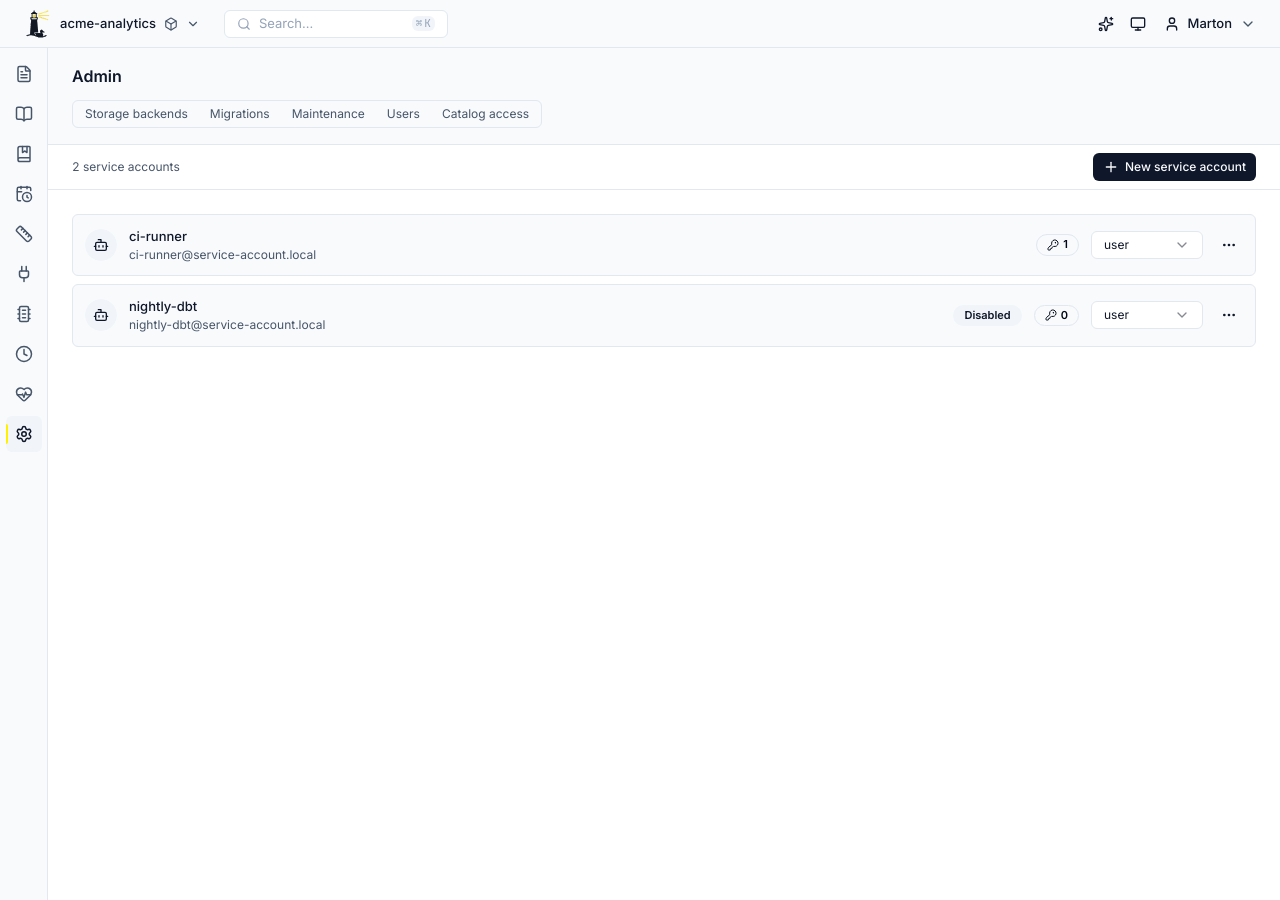
Test: ServiceAccountsPage › issues a PAT and reveals the secret exactly once
The image size is (1280, 900).
Click the button named "actions for ci-runner" at (1229, 245), box [1215,231,1243,259]
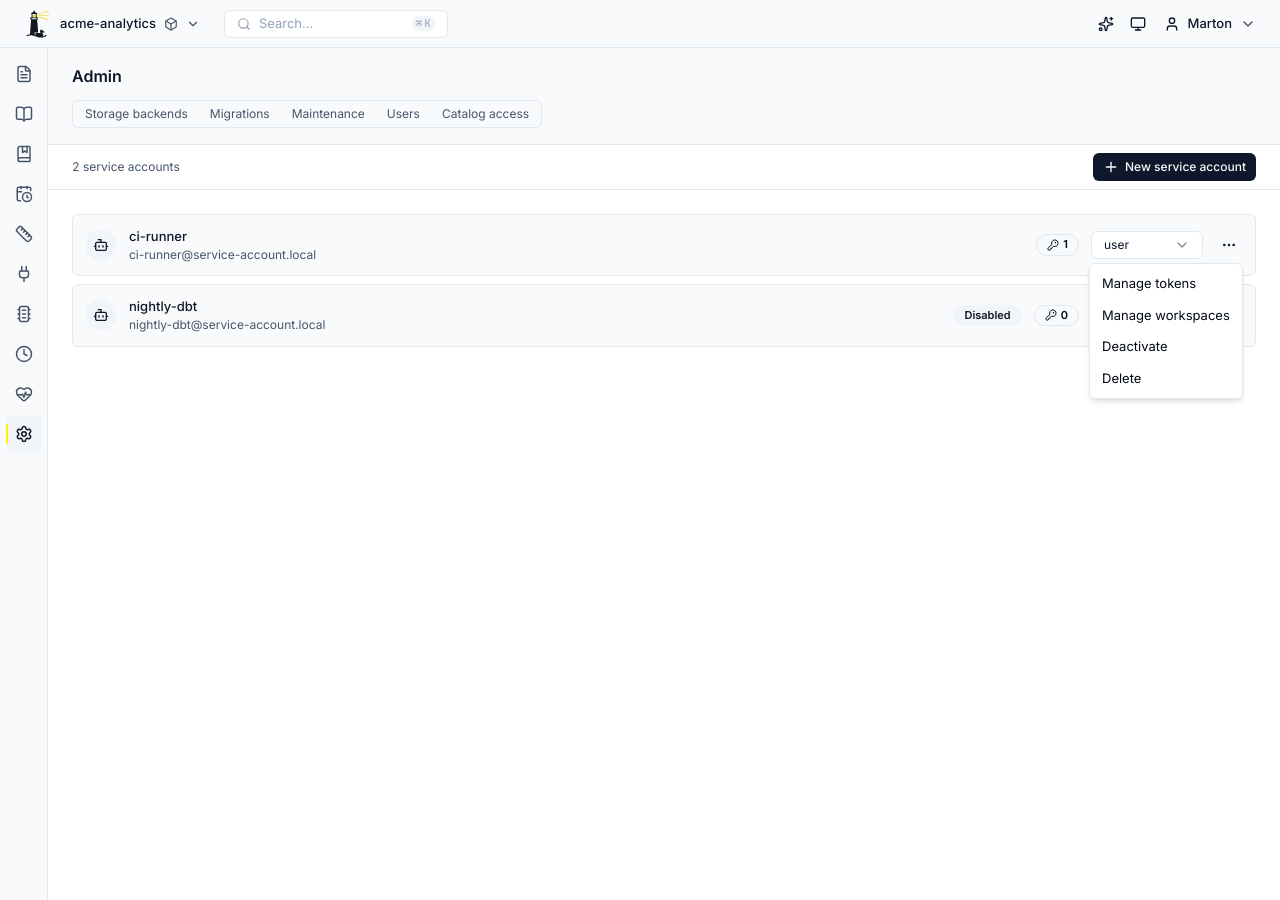
Click the menu item "Manage tokens" at (1149, 283), box [1102,275,1196,291]
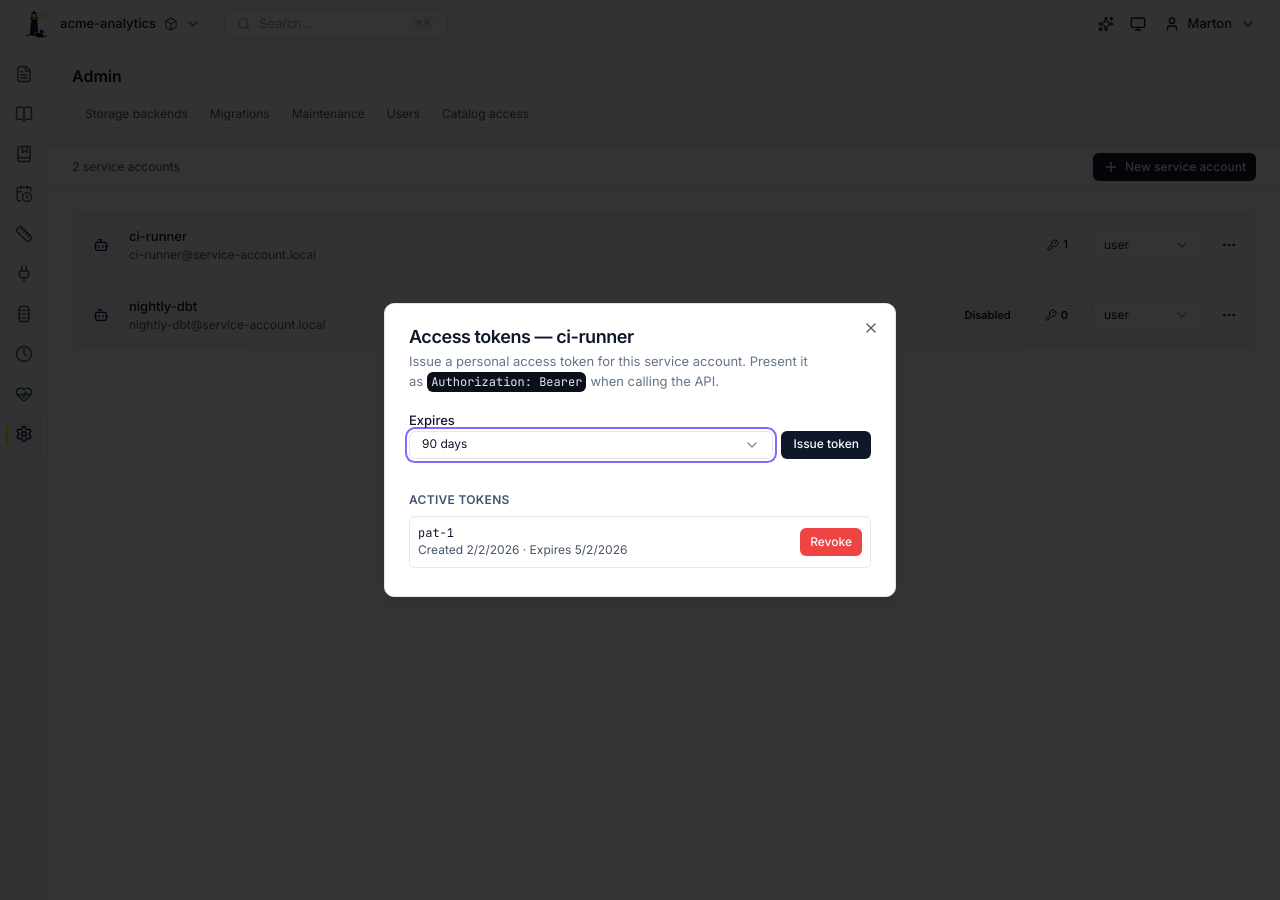
Click the button "Issue token" at (826, 445), box [781,431,871,459]
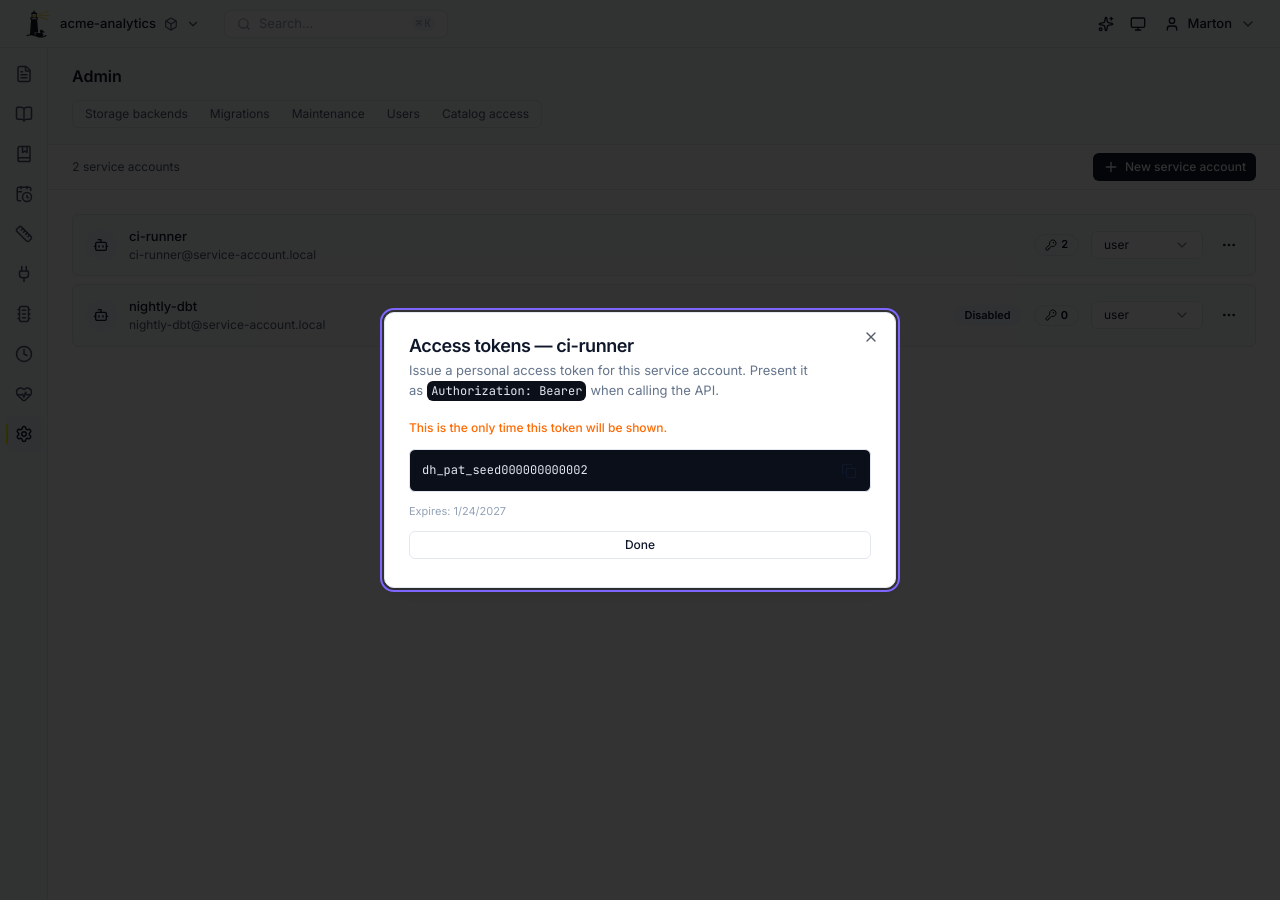
Result: the text with test id "pat-secret" shows "dh_pat_" at [422,462,588,478]
Result: the text "This is the only time this token will be shown." is shown at [409,420,667,435]
